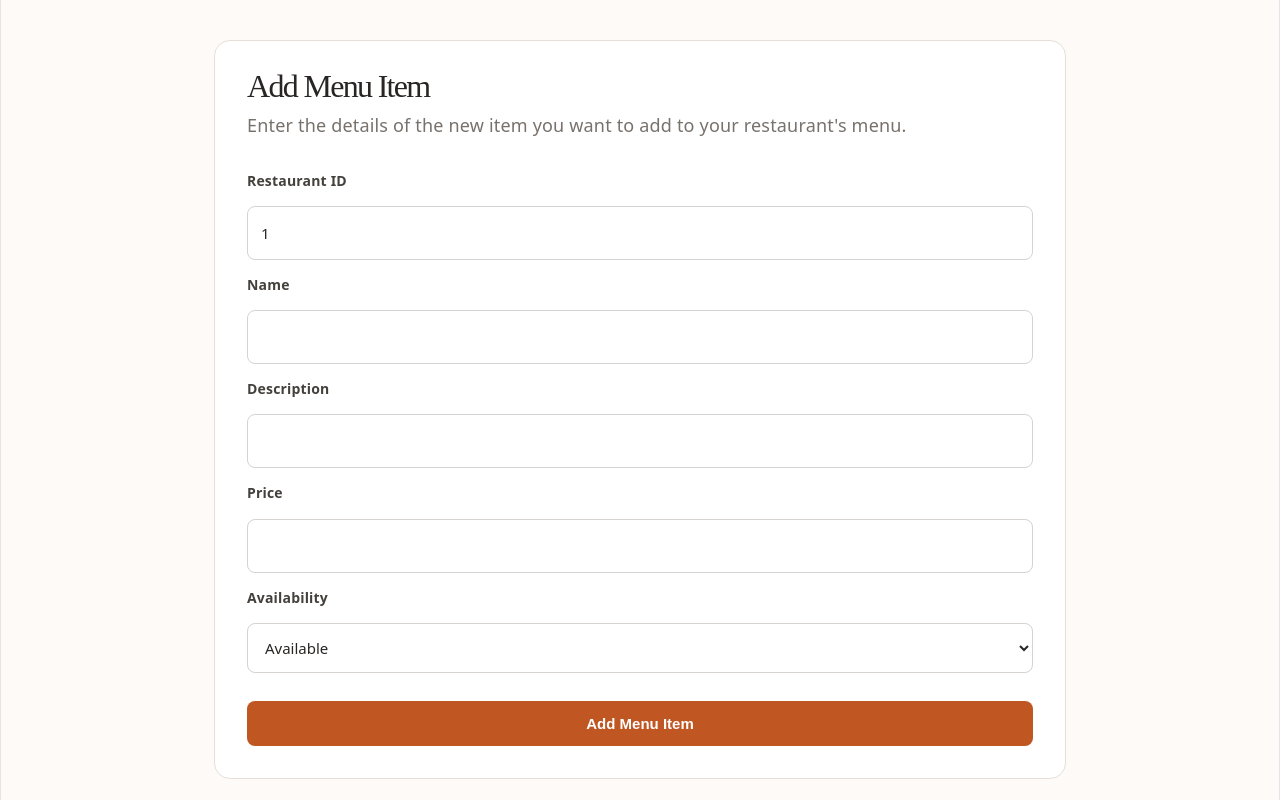
Test case: shows an error when the API fails
Type "Burger" into the field labelled "Name" at (640, 337), box [247,310,1033,364]
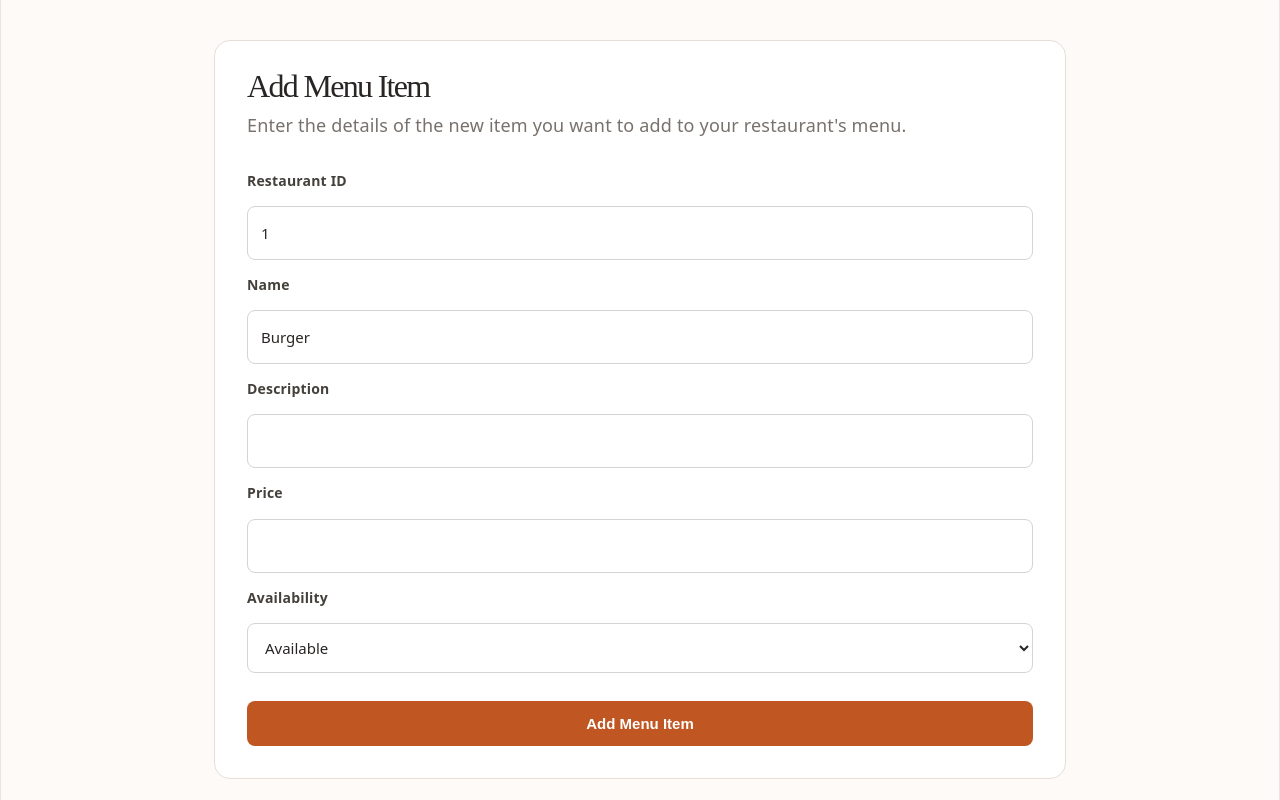
Type "10" into the number field labelled "Price" at (640, 546), box [247,518,1033,573]
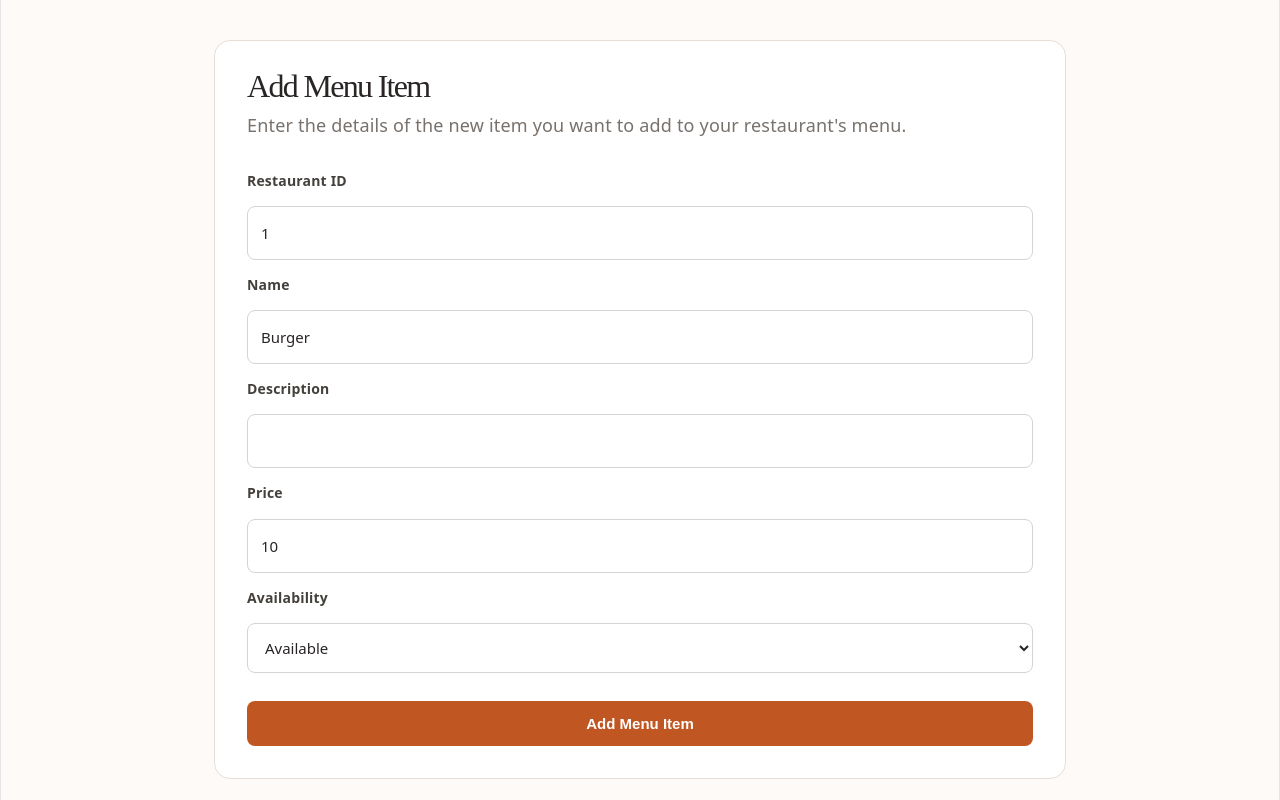
Click the button "Add Menu Item" at (640, 723), box [247,701,1033,746]
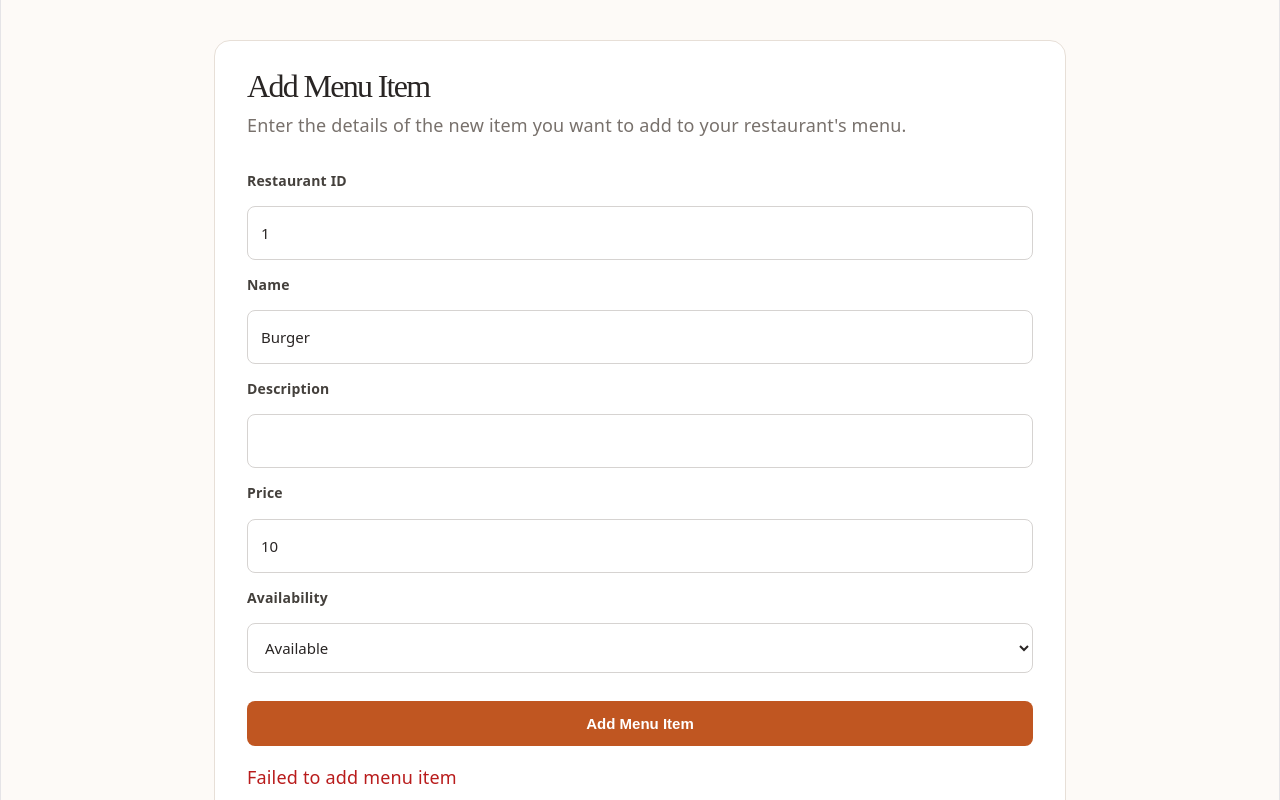
Check: the message reads "Failed to add menu item", box [247,765,457,789]
